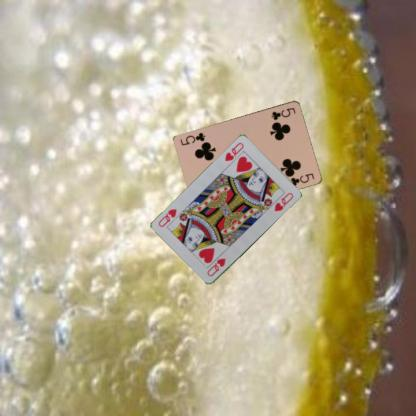5c: (269, 104, 297, 121)
Qh: (222, 140, 245, 163), (205, 256, 227, 278)
